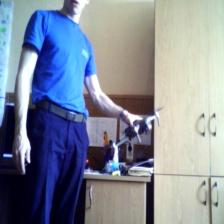drone: (111, 109, 169, 153)
